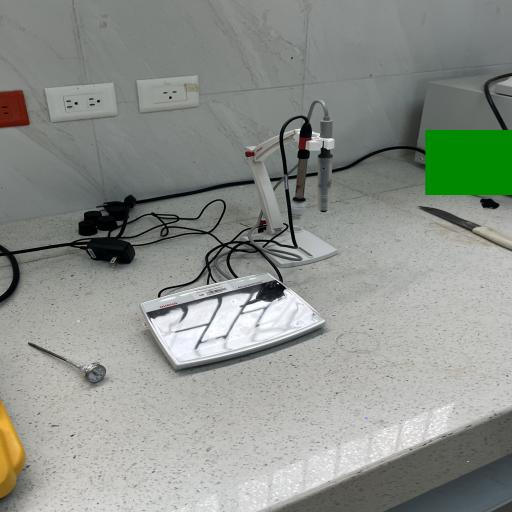Phmetro_Ohaus: (127, 270, 338, 378)
